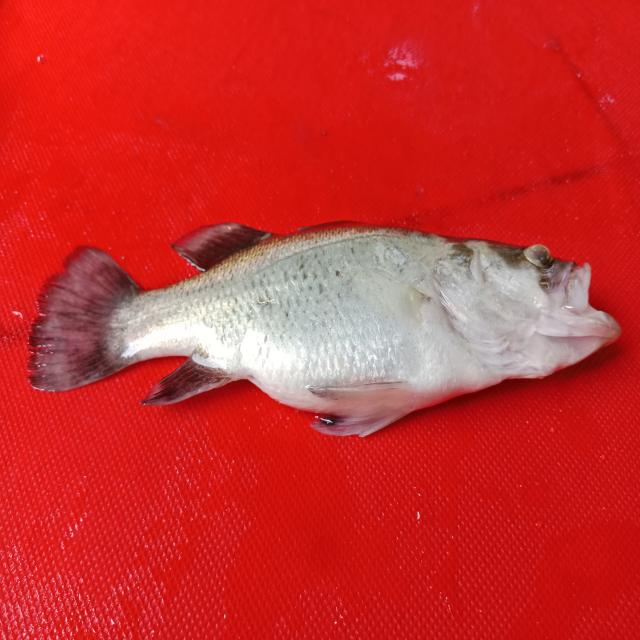ikan: (19, 190, 634, 444)
